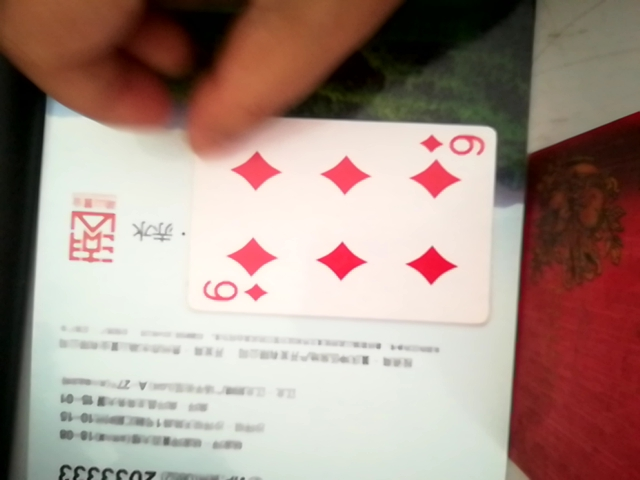fk 6: (175, 112, 511, 328)
